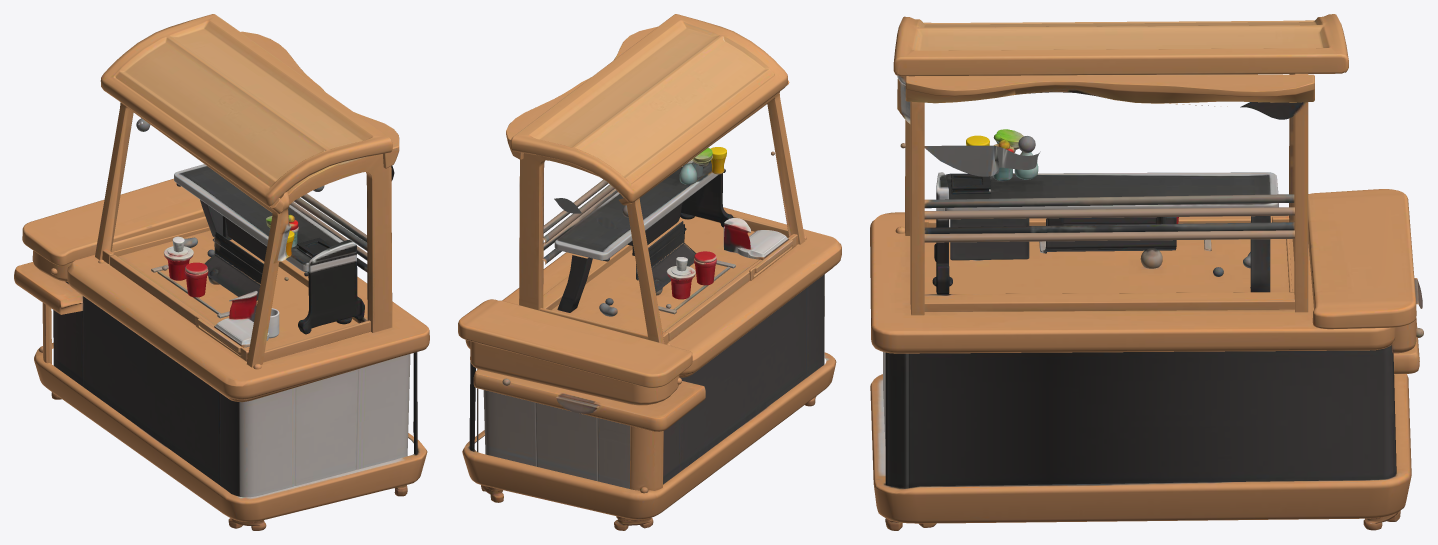
File: toonstudio_cafe_counter.glb
3 views of the same model, side by side, from view 1: azimuth 30°, elevation 25°; view 2: azimuth 150°, elevation 25°; view 3: azimuth 270°, elevation 25° (orthographic). The views are drawn at different scales.
Visible parts, largest first — view 1: ee696a35_40ac_489d_9613_881f36da7a8c; view 2: ee696a35_40ac_489d_9613_881f36da7a8c; view 3: ee696a35_40ac_489d_9613_881f36da7a8c.
Boxes of the visible parts, x1,y1,x2,y2 form: ee696a35_40ac_489d_9613_881f36da7a8c: [14, 14, 429, 530]; ee696a35_40ac_489d_9613_881f36da7a8c: [458, 14, 841, 530]; ee696a35_40ac_489d_9613_881f36da7a8c: [870, 14, 1423, 530].
Bounding box in the file's own units: 1.78 × 2.79 × 3.
Materials: 1 (1 with a texture image).
